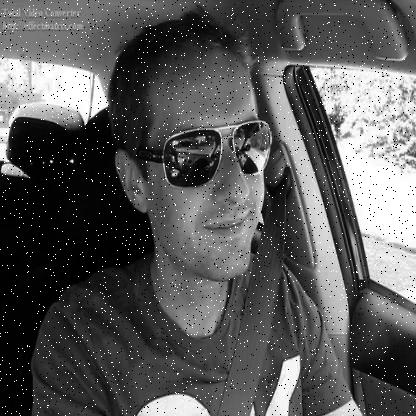seatbelt: (74, 13, 292, 416)
